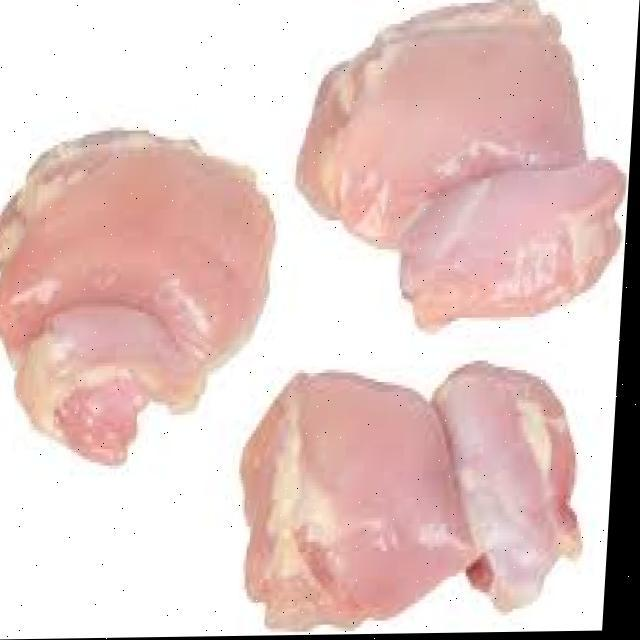thigh: (275, 0, 640, 345), (0, 87, 283, 471), (227, 341, 587, 637)
